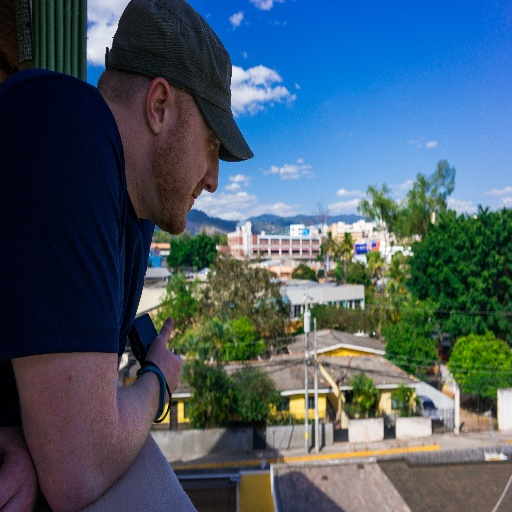hand: (0, 416, 39, 511), (134, 324, 176, 403)
